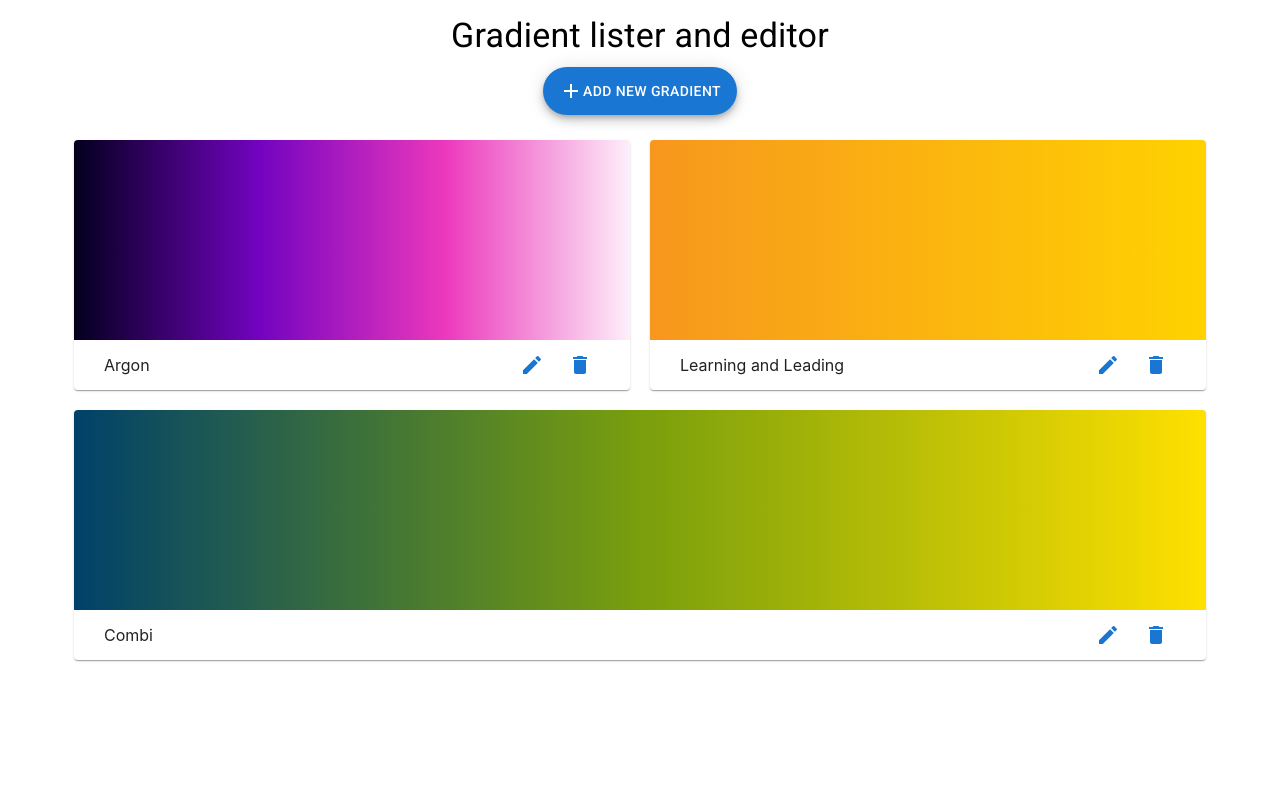
Home page › should navigate to edit page
The width and height of the screenshot is (1280, 800).
Step 1. Click the button with test id "CardEditButton" in the row of "Argon" → (532, 365), box [520, 353, 544, 377]
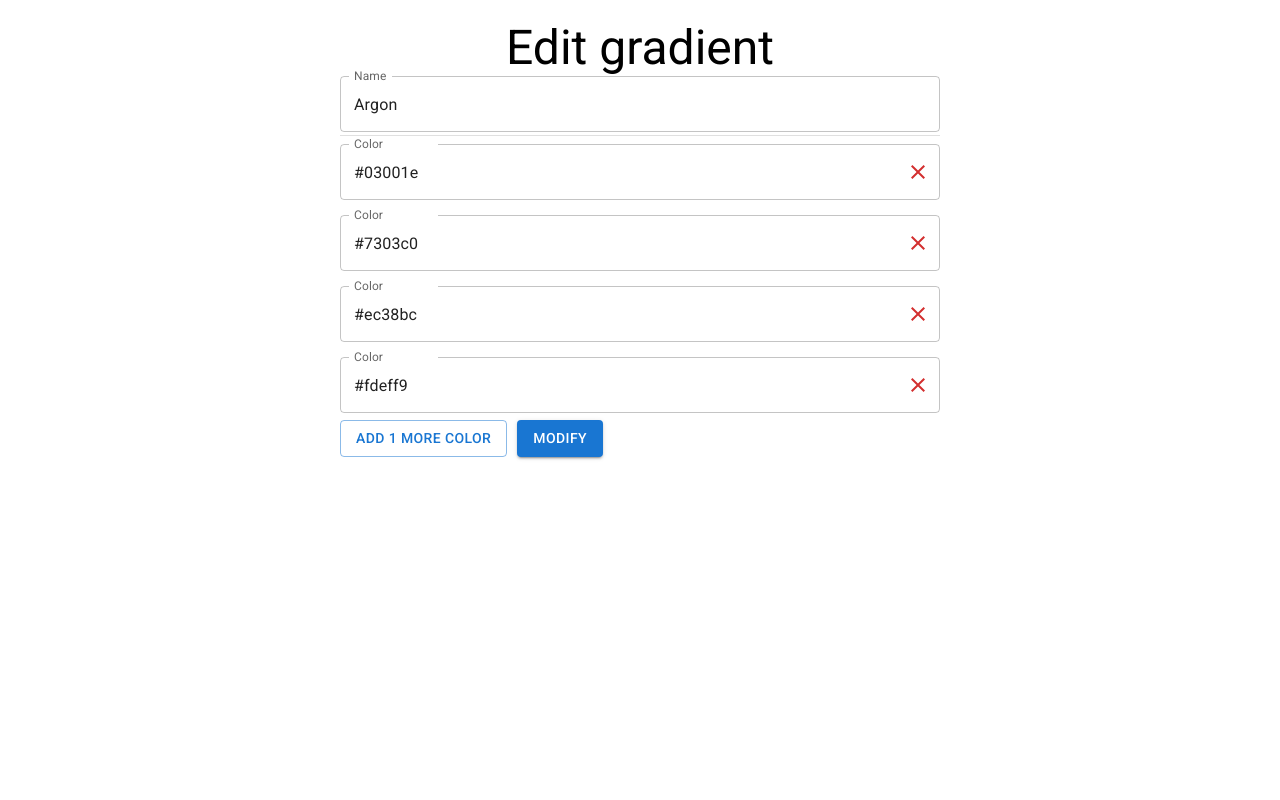
Expected: the text "Edit gradient" is shown, [506, 19, 774, 76]
